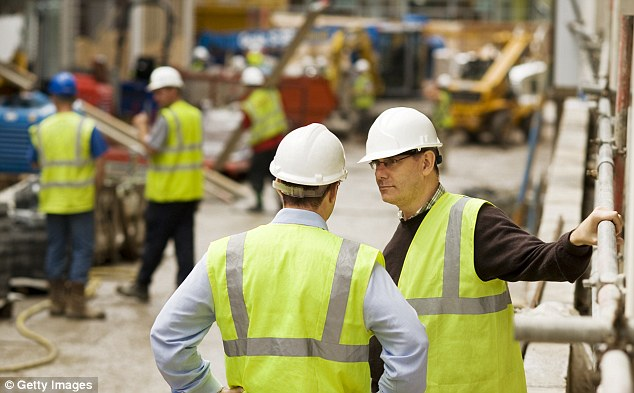SAFE: (373, 104, 524, 393), (224, 121, 368, 393)
